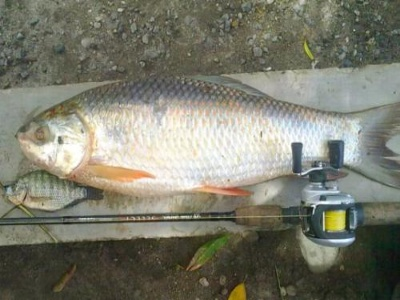rohu: (8, 66, 400, 197)
